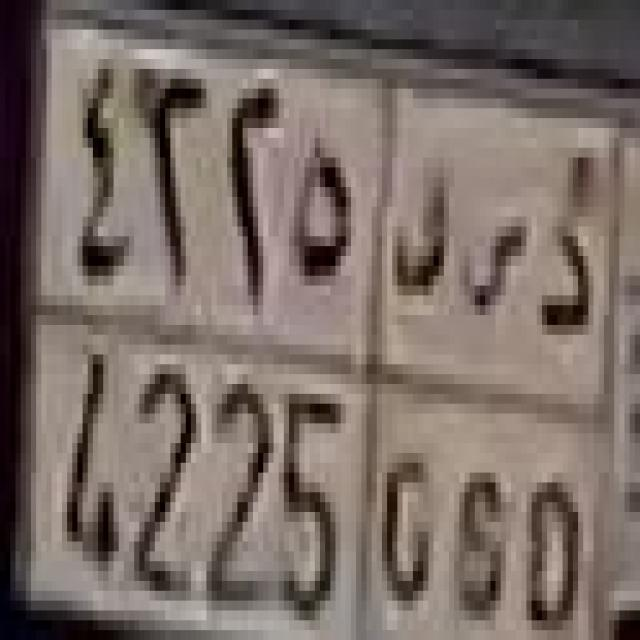license_plate: (36, 0, 625, 640), (59, 328, 578, 630)
